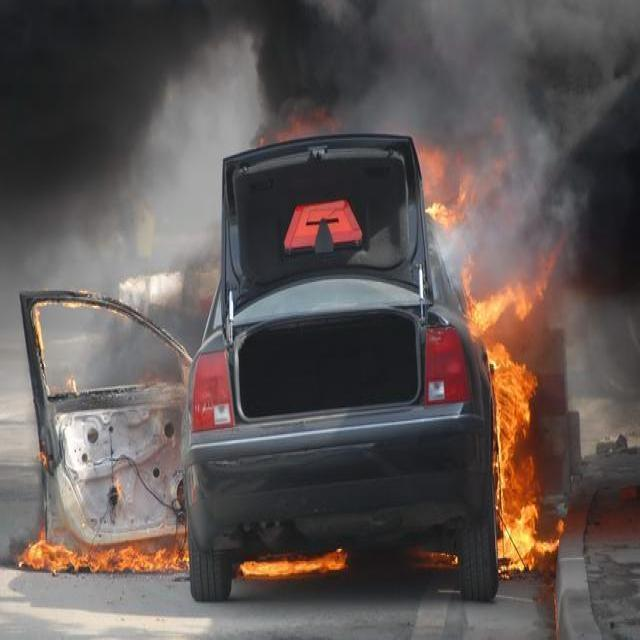Fire: (488, 337, 564, 576), (20, 528, 188, 576), (462, 254, 557, 336), (422, 148, 468, 230), (241, 553, 345, 580)
Smoke: (6, 0, 638, 149), (471, 147, 634, 255)
